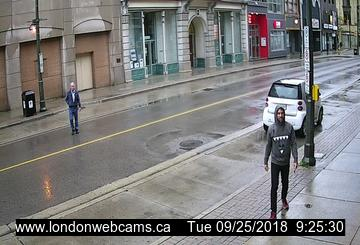Car: (261, 75, 329, 136)
person: (260, 104, 299, 223), (62, 78, 84, 136)
